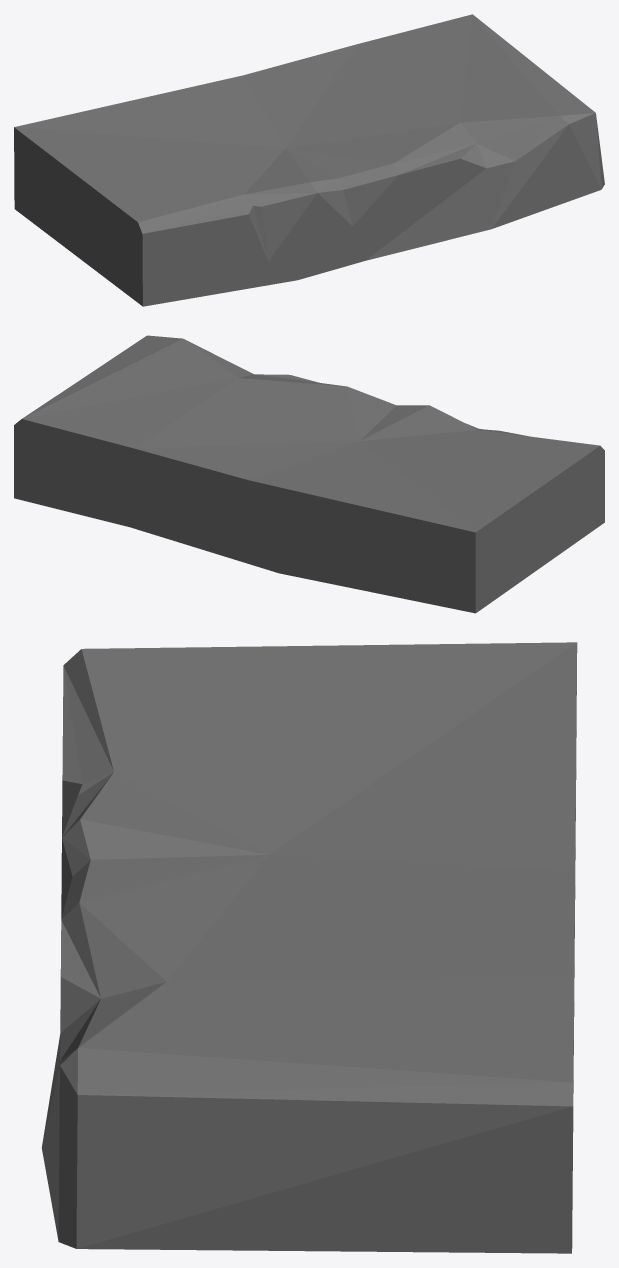
The model's file is rock_007.glb.
3 renders of one model, top to bottom at view 1: azimuth 30°, elevation 25°; view 2: azimuth 150°, elevation 25°; view 3: azimuth 270°, elevation 25°, orthographic. The views are drawn at different scales.
Parts seen in each view (by area): view 1: rock_007; view 2: rock_007; view 3: rock_007.
Part boxes in pixels (x1,y1,x2,y2): rock_007: (14, 14, 604, 306); rock_007: (14, 335, 604, 613); rock_007: (41, 642, 577, 1253).
Size of the model in its own units: 42.76 by 8.53 by 21.38.
1 material, 1 textured.
